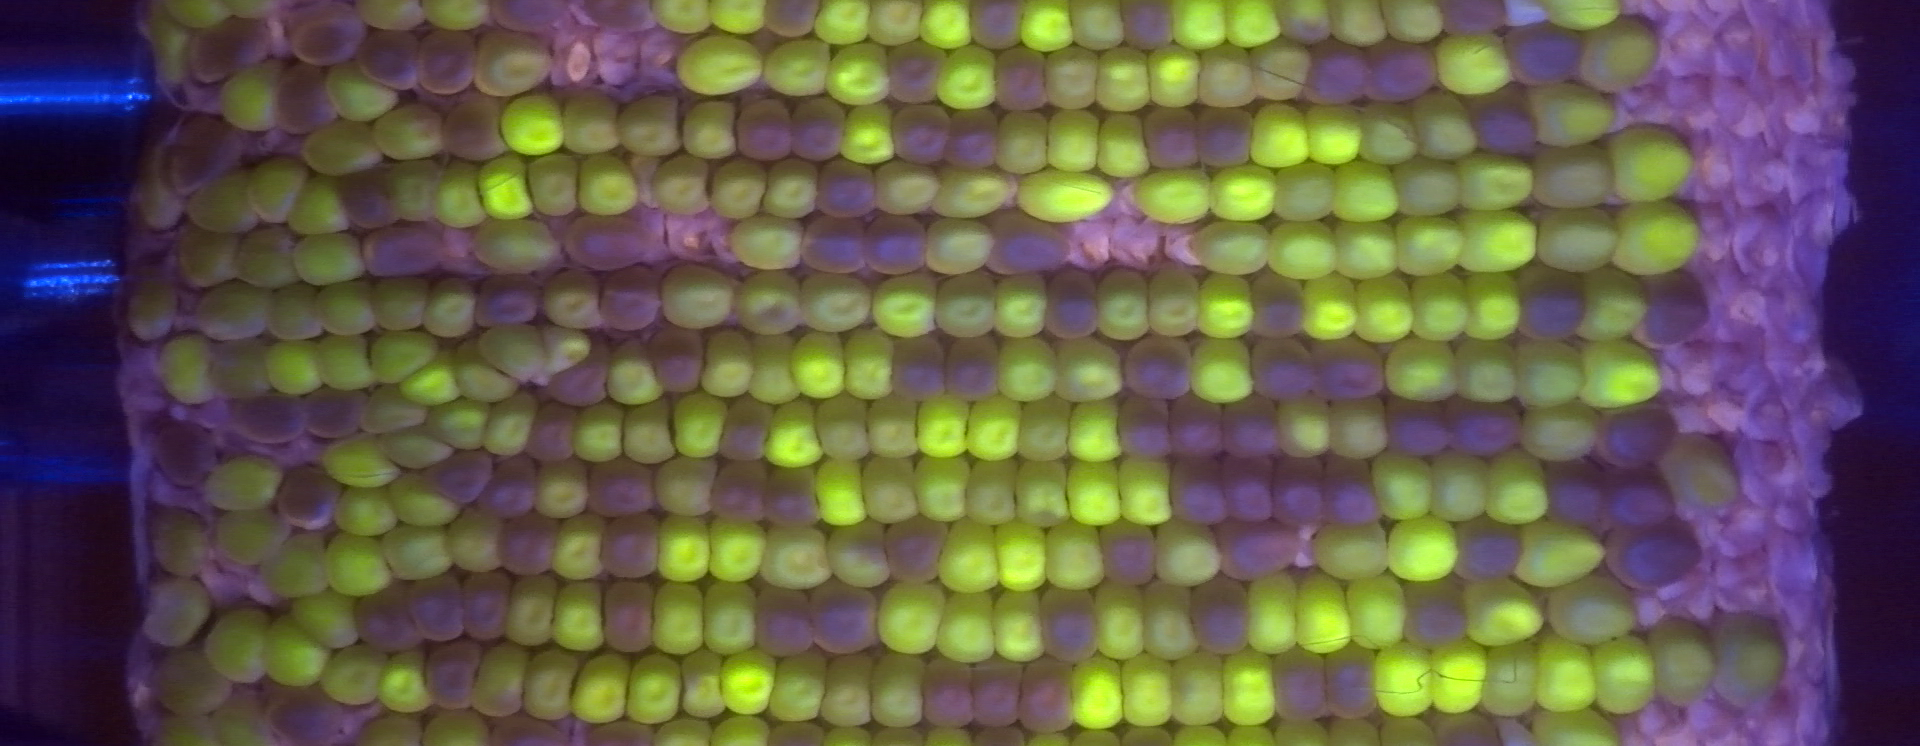fluorescent: (1720, 615, 1791, 706), (1615, 205, 1700, 279), (1613, 127, 1693, 201), (1667, 436, 1742, 510), (1511, 523, 1602, 584), (1456, 209, 1539, 276), (1549, 576, 1629, 644), (1584, 20, 1656, 89), (1654, 630, 1716, 710), (1463, 579, 1539, 644), (1538, 141, 1613, 205), (678, 37, 760, 94), (133, 141, 182, 235), (1386, 336, 1457, 401), (1597, 636, 1656, 713), (1518, 341, 1582, 412), (1583, 345, 1659, 404), (517, 649, 583, 717), (223, 62, 285, 134), (1056, 337, 1123, 402), (206, 612, 271, 680), (216, 500, 284, 563), (1191, 218, 1270, 273), (662, 262, 729, 327), (1460, 152, 1531, 212), (470, 223, 561, 269), (1584, 273, 1646, 342), (1021, 171, 1111, 218), (1464, 272, 1523, 342), (940, 521, 999, 590), (146, 579, 211, 642), (192, 284, 266, 339), (1534, 638, 1589, 712), (880, 582, 936, 654), (1392, 516, 1455, 579), (1333, 219, 1400, 279), (621, 91, 680, 158), (203, 461, 288, 507), (1438, 38, 1509, 93), (571, 652, 626, 723), (238, 229, 300, 292), (324, 643, 387, 706), (939, 589, 993, 661), (1196, 273, 1254, 341), (1191, 333, 1249, 401), (1147, 579, 1195, 660), (1223, 650, 1275, 725), (1532, 83, 1610, 132), (1349, 575, 1403, 646), (825, 43, 887, 105), (267, 621, 328, 684), (1299, 576, 1349, 652), (1269, 220, 1336, 277), (1378, 649, 1434, 717), (1065, 454, 1120, 523), (1245, 577, 1294, 654), (1371, 453, 1431, 516), (624, 657, 683, 720), (481, 326, 546, 383), (999, 334, 1056, 401), (302, 122, 378, 171), (624, 393, 673, 469), (553, 581, 602, 657), (1095, 586, 1146, 658), (476, 153, 531, 220), (841, 333, 896, 401), (1429, 643, 1484, 710), (1392, 219, 1461, 273), (313, 274, 373, 336), (1160, 516, 1220, 577), (454, 342, 517, 401), (707, 579, 756, 654), (1299, 276, 1356, 341), (1490, 456, 1547, 521), (478, 37, 549, 88), (1331, 163, 1397, 218), (1413, 274, 1468, 341), (186, 178, 253, 232), (874, 276, 936, 334), (1097, 265, 1146, 338), (816, 454, 864, 528), (148, 506, 204, 570), (261, 540, 324, 597), (819, 660, 872, 728), (1316, 526, 1389, 575), (653, 583, 702, 655), (1140, 173, 1209, 224), (655, 459, 718, 516), (804, 274, 868, 330), (580, 156, 634, 220), (967, 396, 1021, 461), (486, 393, 539, 459), (1529, 405, 1596, 458), (1048, 521, 1101, 587), (732, 222, 803, 271), (996, 274, 1044, 345), (702, 330, 751, 401), (504, 575, 553, 646), (328, 529, 384, 590), (1070, 658, 1120, 726), (376, 104, 441, 157), (369, 332, 440, 380), (765, 526, 823, 584), (1147, 269, 1198, 337), (164, 336, 214, 403), (444, 510, 501, 570), (1413, 98, 1474, 153), (747, 331, 793, 403), (1534, 707, 1622, 745), (1429, 461, 1485, 519), (501, 96, 561, 151), (1018, 401, 1073, 461), (924, 223, 996, 269), (996, 589, 1042, 660), (1396, 159, 1457, 213), (915, 393, 969, 454), (1273, 167, 1336, 219), (609, 342, 661, 404), (864, 461, 917, 523), (936, 167, 1000, 217), (220, 336, 271, 401), (996, 526, 1046, 590), (180, 235, 238, 292), (1067, 402, 1124, 458), (567, 89, 616, 156), (1209, 167, 1275, 216), (743, 272, 798, 331), (1461, 343, 1516, 402), (767, 42, 827, 96), (876, 160, 936, 214), (266, 283, 320, 343), (389, 526, 453, 576), (769, 397, 816, 465), (478, 646, 524, 714), (1357, 283, 1413, 339), (936, 51, 993, 107), (549, 269, 604, 327), (915, 457, 969, 516), (422, 402, 492, 447), (432, 162, 480, 228), (876, 658, 923, 724), (793, 334, 844, 397), (966, 454, 1013, 522), (724, 650, 771, 715), (159, 660, 231, 703), (251, 158, 304, 217), (298, 594, 358, 646), (387, 472, 449, 521), (326, 440, 397, 483), (1123, 659, 1171, 723), (709, 521, 764, 576), (1307, 107, 1360, 163), (711, 158, 763, 217), (1278, 396, 1330, 454), (1047, 47, 1097, 107), (771, 657, 820, 718), (328, 67, 396, 111), (296, 240, 367, 282), (337, 483, 396, 533), (1052, 111, 1101, 171), (662, 514, 707, 581), (1364, 109, 1418, 163), (381, 655, 430, 714), (1097, 55, 1150, 109), (816, 403, 869, 456), (1335, 403, 1390, 454), (687, 103, 736, 160), (1258, 107, 1307, 164), (427, 281, 476, 338), (1000, 113, 1047, 173), (1149, 47, 1194, 108), (1102, 114, 1147, 175), (131, 278, 174, 342), (1018, 1, 1071, 51), (1125, 461, 1167, 526), (527, 158, 576, 213), (671, 399, 719, 456), (536, 461, 584, 517), (658, 160, 709, 212), (872, 399, 916, 459), (940, 276, 989, 330), (271, 341, 320, 394), (539, 325, 588, 379), (572, 405, 620, 461), (1205, 50, 1248, 111), (765, 164, 816, 216), (1016, 467, 1067, 518), (219, 693, 268, 746), (400, 356, 457, 402), (318, 336, 367, 387), (388, 163, 436, 216), (682, 653, 721, 717), (291, 186, 344, 233), (1171, 2, 1226, 47), (157, 710, 224, 746), (556, 521, 600, 575), (849, 109, 891, 164), (373, 281, 422, 328), (384, 428, 446, 465), (869, 1, 920, 47), (1331, 2, 1386, 43), (1224, 2, 1277, 44), (359, 710, 420, 746), (1256, 47, 1300, 96), (364, 390, 419, 429), (1378, 710, 1438, 746), (920, 6, 970, 47), (354, 1, 422, 31), (1076, 2, 1123, 45), (1390, 2, 1444, 39), (710, 1, 767, 36), (650, 1, 711, 32), (1540, 1, 1620, 24), (817, 2, 864, 40), (156, 1, 225, 27), (1282, 2, 1327, 38), (426, 1, 487, 27), (425, 719, 489, 744), (1326, 717, 1378, 746), (153, 33, 184, 81), (820, 720, 872, 746), (1171, 722, 1224, 746), (1273, 720, 1324, 746), (718, 722, 768, 745), (1222, 724, 1272, 746), (661, 720, 709, 742), (874, 724, 920, 746), (227, 2, 276, 20), (1069, 729, 1117, 746), (927, 726, 965, 746), (1027, 730, 1065, 746)
nonfluorescent: (1613, 516, 1708, 597), (982, 211, 1078, 282), (1630, 269, 1711, 353), (807, 577, 880, 655), (1539, 456, 1611, 534), (165, 116, 245, 186), (1520, 267, 1588, 348), (555, 212, 653, 268), (1464, 88, 1543, 158), (1598, 405, 1678, 474), (1310, 336, 1391, 403), (287, 2, 369, 69), (1403, 572, 1468, 654), (1507, 17, 1583, 86), (362, 222, 446, 284), (1444, 396, 1526, 458), (1451, 511, 1526, 579), (1122, 336, 1198, 403), (1364, 37, 1442, 102), (468, 269, 546, 334), (353, 582, 426, 650), (1043, 590, 1108, 668), (1191, 575, 1249, 659), (887, 513, 950, 589), (264, 680, 347, 739), (1327, 646, 1387, 725), (733, 102, 808, 165), (1324, 451, 1386, 527), (184, 24, 269, 80), (1221, 522, 1303, 579), (1250, 337, 1319, 405), (1113, 396, 1179, 467), (274, 67, 343, 135), (493, 513, 563, 579), (922, 654, 983, 729), (1610, 468, 1678, 535), (549, 345, 612, 415), (653, 327, 711, 402), (1245, 274, 1311, 341), (1382, 399, 1450, 464), (811, 158, 879, 222), (594, 268, 664, 331), (945, 107, 1007, 178), (791, 94, 851, 167), (444, 97, 509, 163), (601, 514, 669, 578), (606, 583, 662, 659), (587, 458, 658, 518), (1167, 393, 1227, 464), (893, 336, 951, 408), (405, 572, 464, 644), (236, 392, 311, 448), (158, 421, 220, 489), (479, 454, 541, 522), (1048, 269, 1104, 343), (282, 464, 344, 530), (710, 459, 773, 526), (421, 639, 482, 707), (355, 29, 424, 89), (972, 655, 1024, 735), (1024, 658, 1078, 734), (947, 334, 1003, 405), (867, 216, 932, 277), (1222, 399, 1283, 464), (991, 44, 1048, 113), (1277, 646, 1329, 722), (893, 105, 955, 168), (1300, 45, 1364, 107), (804, 213, 868, 274), (1196, 105, 1256, 170), (882, 43, 948, 102), (418, 27, 475, 94), (340, 167, 398, 234), (754, 588, 811, 657), (1220, 461, 1278, 526), (302, 383, 369, 441), (429, 450, 496, 506), (763, 465, 820, 530), (1275, 458, 1326, 530), (1101, 521, 1156, 588), (1168, 468, 1229, 527), (721, 397, 775, 463), (1149, 107, 1201, 171), (464, 570, 509, 644), (529, 399, 577, 468), (1120, 1, 1176, 58), (1431, 708, 1511, 746), (491, 707, 561, 746), (1439, 1, 1507, 40), (496, 1, 573, 36), (969, 1, 1024, 49), (759, 1, 827, 39), (580, 713, 658, 746), (579, 1, 658, 32)
